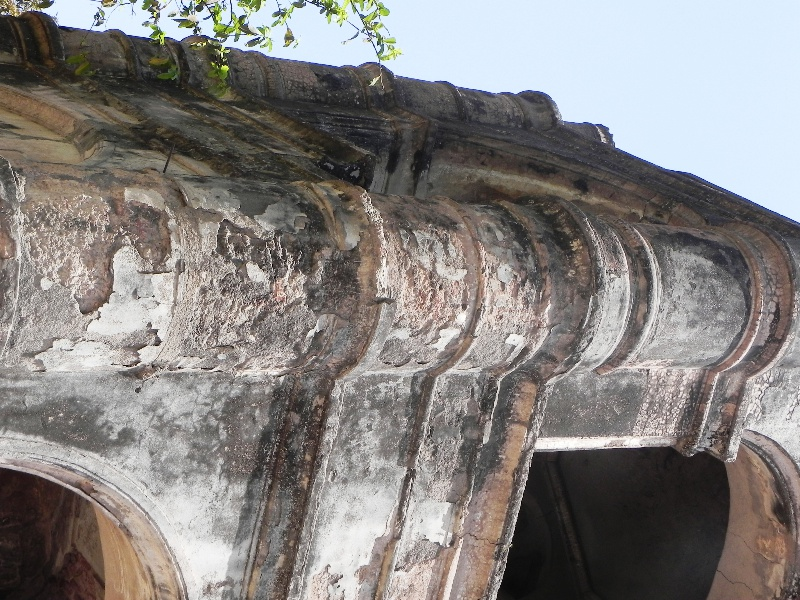Spalling: (21, 160, 175, 314)
